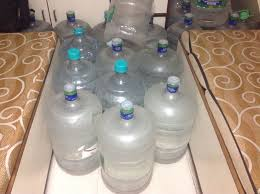plastic: (71, 19, 174, 165)
